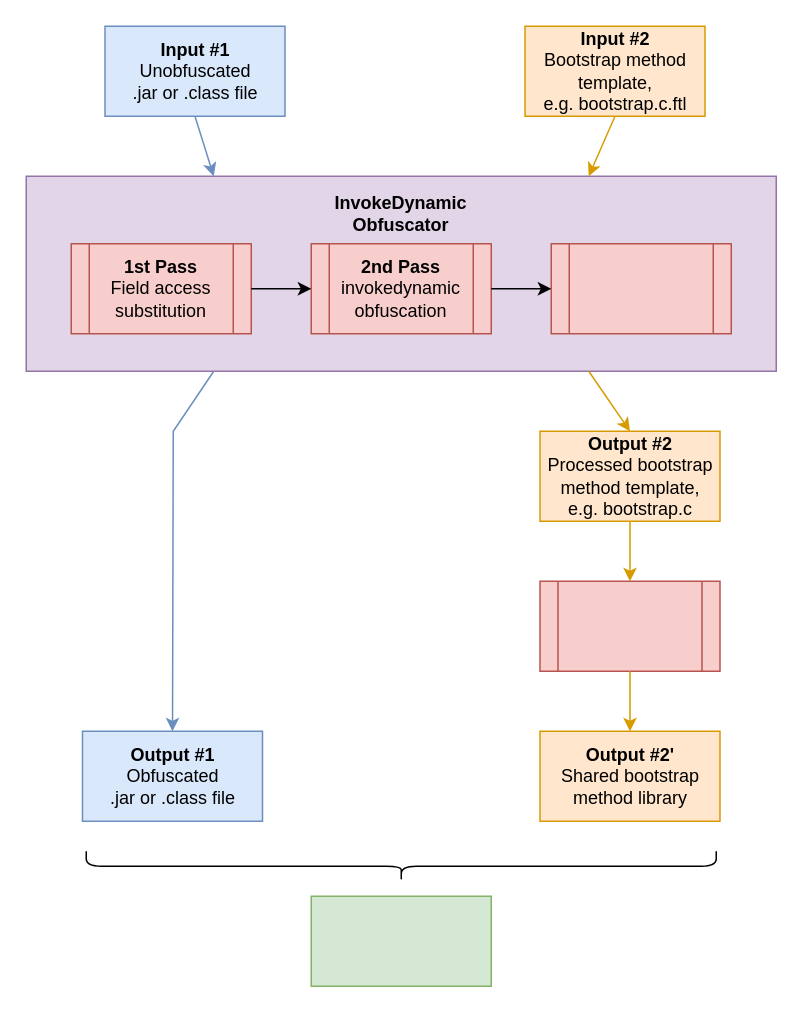
The diagram is 803 pixels wide and 1013 high, and some of its shapes have lost their labels. Here are the shapes that lost their labels. From the top down, the centre of each, then its label:
the point at 640,288: 3rd Pass bootstrap method generation
the point at 629,625: Platform-specific compilation, e.g. using gcc
the point at 400,940: Artifacts making up the obfuscated program
